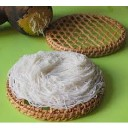idiyappam: (11, 51, 100, 104)
